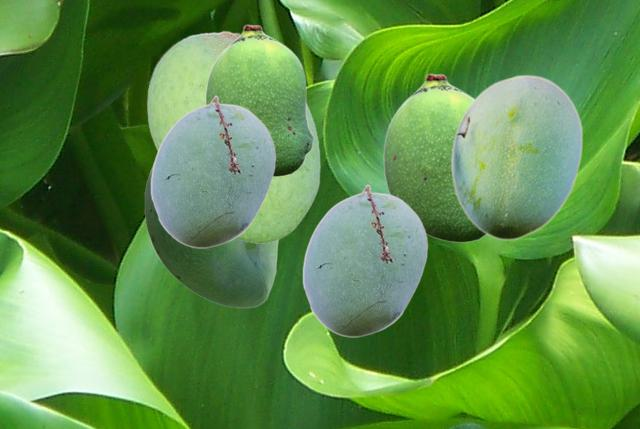green_mango: (147, 30, 319, 242), (450, 74, 582, 239), (302, 184, 427, 336), (150, 95, 275, 247), (144, 167, 279, 307), (383, 73, 485, 242), (205, 24, 313, 176)
